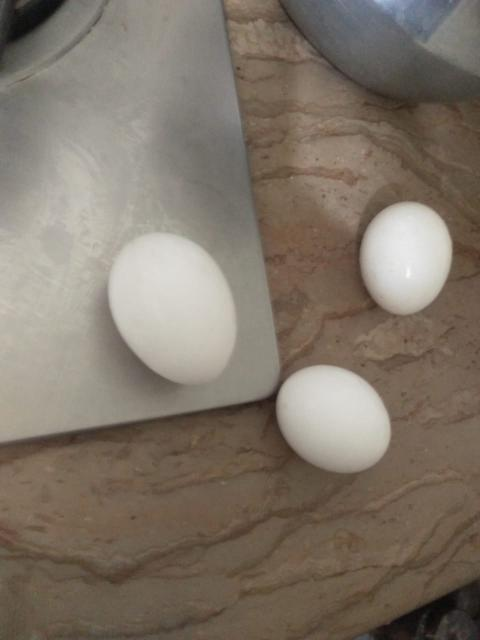Sano: (105, 231, 236, 388), (276, 363, 392, 475), (360, 201, 455, 316)
